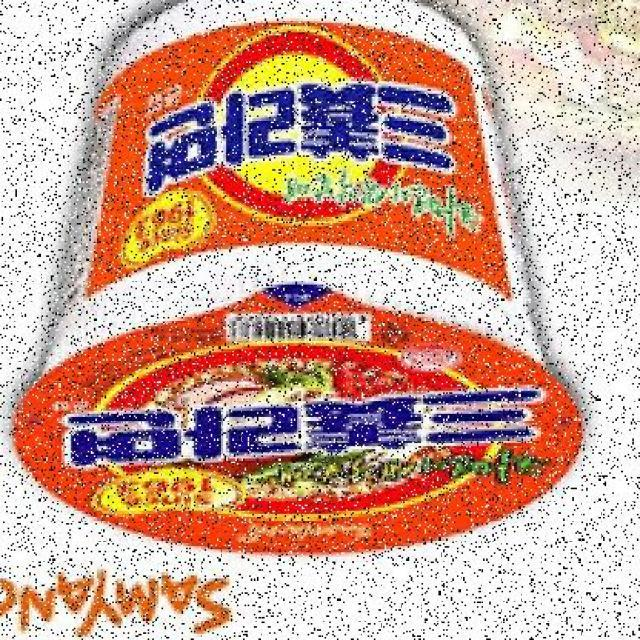Miscellaneous: (21, 3, 574, 566)
